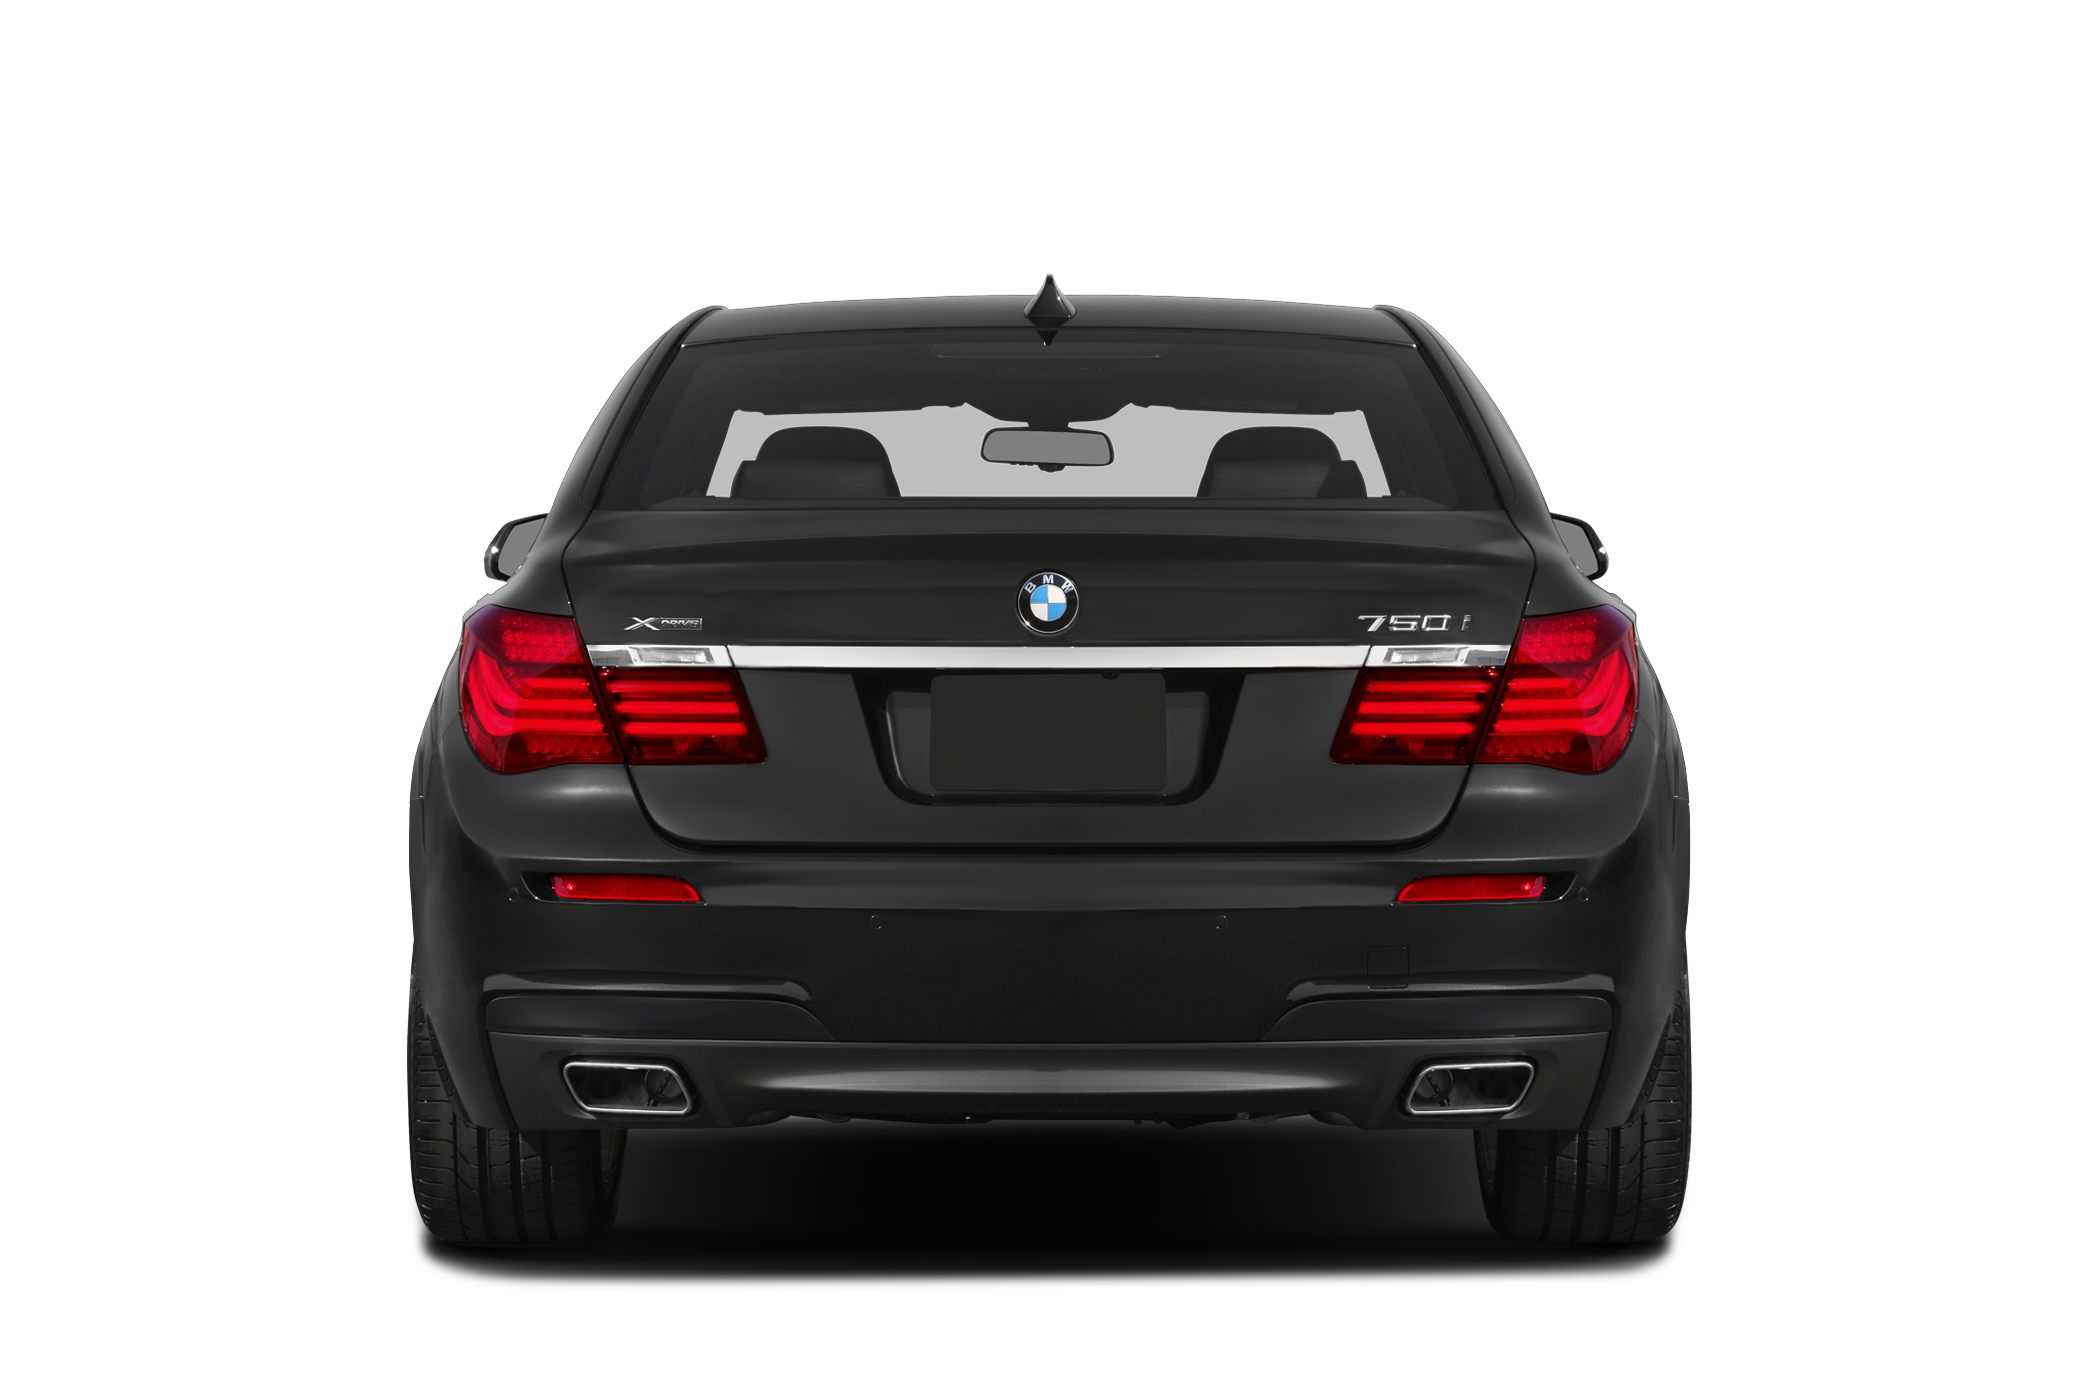bmw: (376, 249, 1721, 1275)
